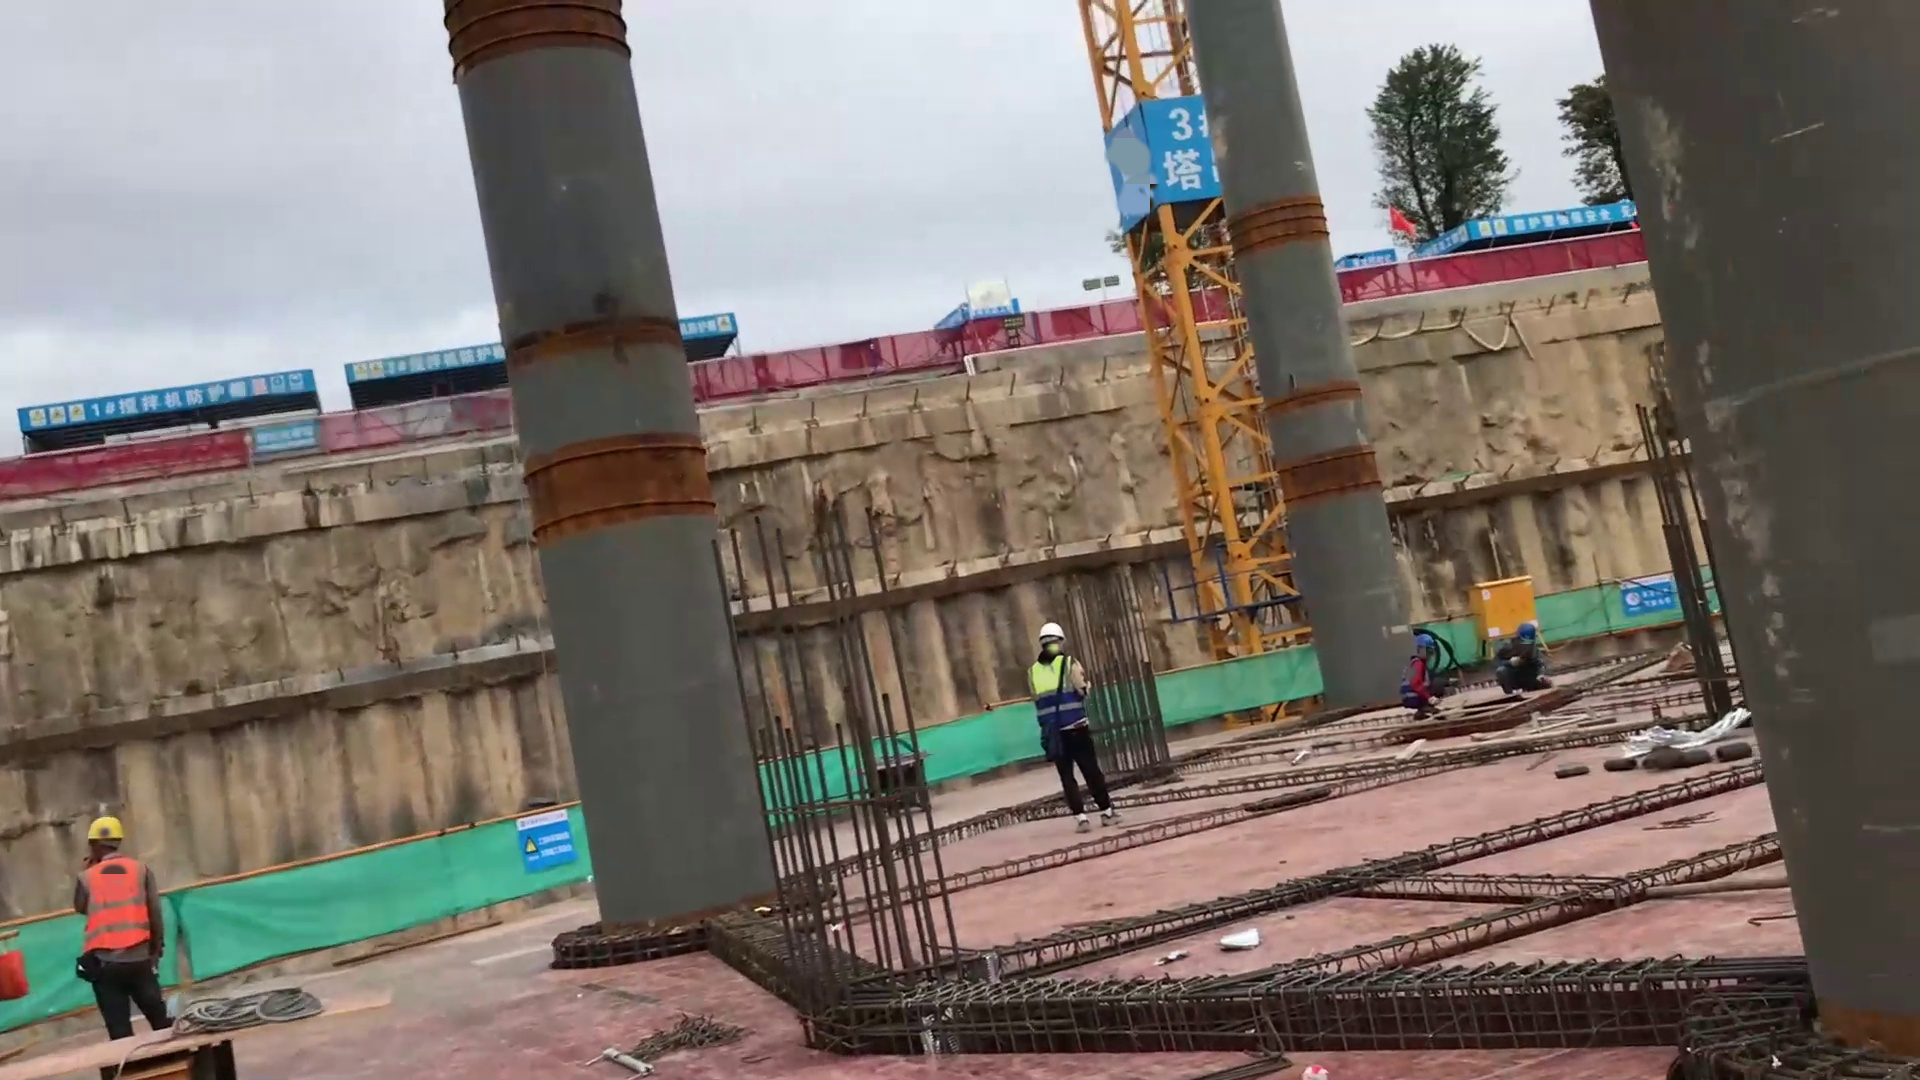cutter: (1, 983, 391, 1079)
ebox: (1467, 571, 1553, 658)
fence: (724, 333, 951, 403)
helmet: (83, 813, 125, 850), (1037, 620, 1065, 646), (1515, 621, 1538, 646), (1414, 634, 1435, 654)
person: (72, 813, 176, 1035), (1024, 618, 1126, 834), (1491, 619, 1551, 694), (1399, 633, 1448, 720)
slogan: (21, 366, 317, 454), (1408, 200, 1637, 262), (1142, 98, 1225, 202), (351, 341, 504, 382), (516, 809, 577, 870), (931, 295, 1022, 330), (1617, 573, 1677, 614), (678, 309, 735, 342), (1337, 247, 1399, 273)
vest: (74, 856, 152, 955), (1031, 654, 1089, 729), (1399, 656, 1438, 708)
